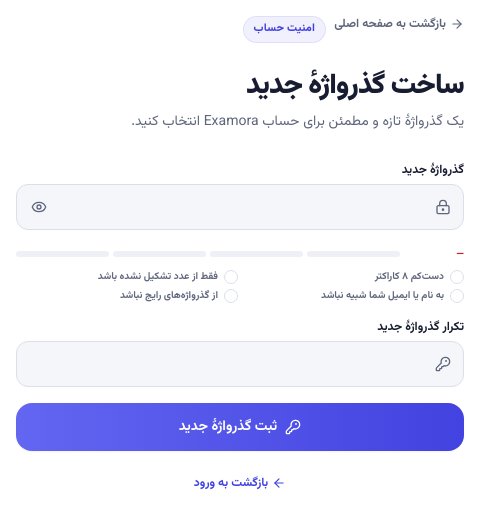
Test: with a usable link › catches a mismatch locally, before the server has burned the token
The image size is (481, 528).
Type "کوهستان-2468-Ab!" into the password field labelled "گذرواژهٔ جدید" at (244, 207), box [61,185,427,229]
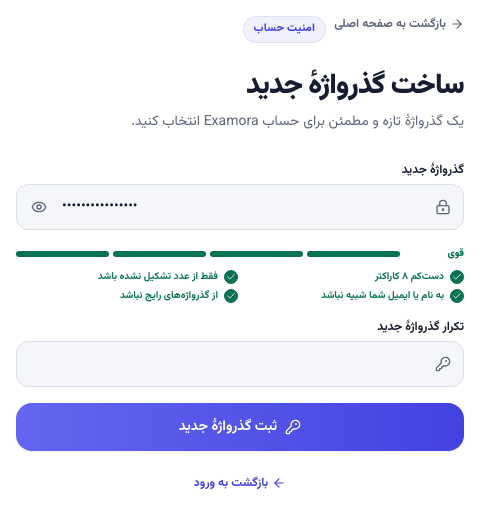
Type "کوهستان-2468-Ab" into the password field labelled "تکرار گذرواژهٔ جدید" at (228, 364), box [29,342,427,386]
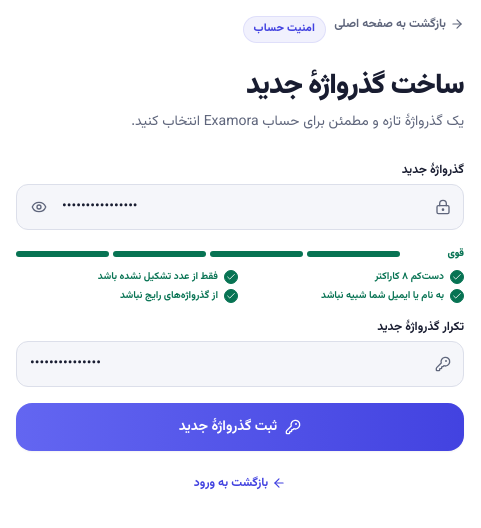
Click the button "ثبت گذرواژهٔ جدید" at (240, 427), box [16,403,464,451]
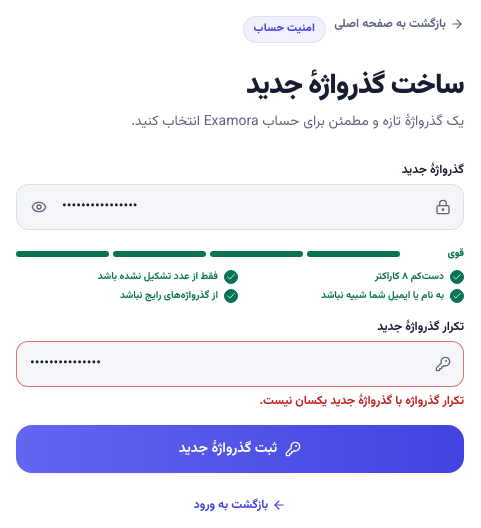
Expected: the text "تکرار گذرواژه با گذرواژهٔ جدید یکسان نیست." is shown, [259,392,464,410]
